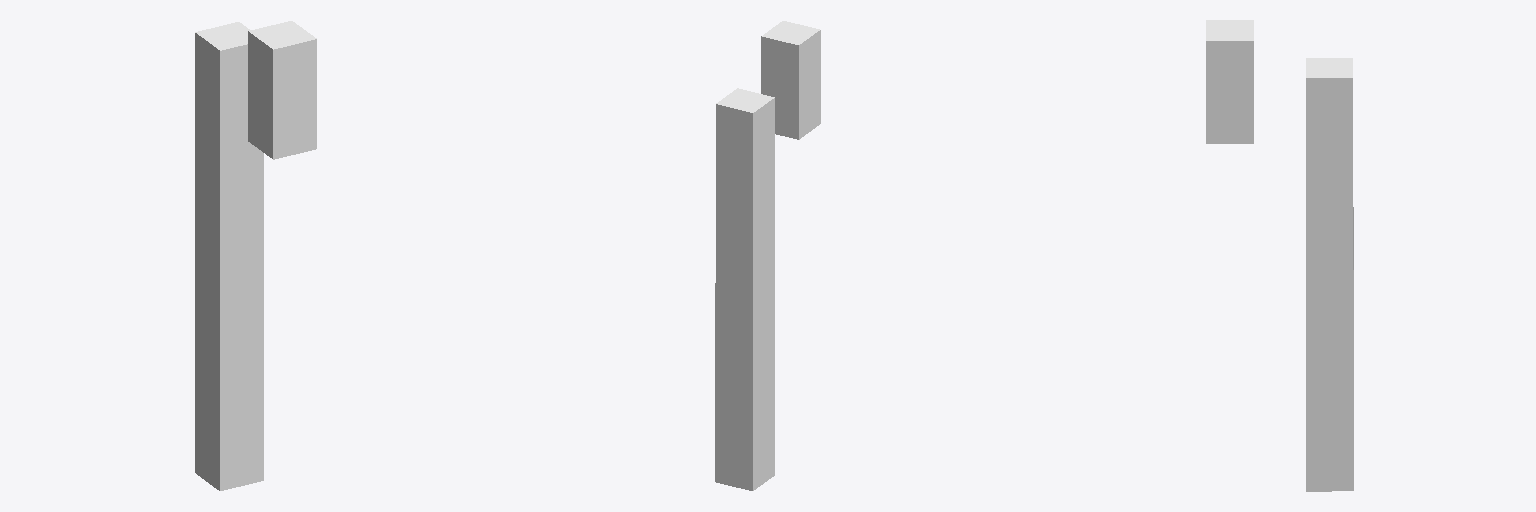
URDF robot description (manipulator):
<?xml version="1.0" encoding="utf-8"?>
<!-- =================================================================================== -->
<!-- |    This document was autogenerated by xacro from shoulder_pitch.xacro           | -->
<!-- |    EDITING THIS FILE BY HAND IS NOT RECOMMENDED                                 | -->
<!-- =================================================================================== -->
<robot name="manipulator">
  <!--0.5624 height to start-->
  <material name="white">
    <color rgba="1 1 1 1"/>
  </material>
  <!-- MACROS -->
  <!-- LINKS -->
  <!-- the trans parameter present here is to toggle distance of current object with respect to previous adjacent object i.e. its parent-->
  <link name="base_link">
    <inertial>
      <origin rpy="0 0 0" xyz="0 0 0.5624"/>
      <mass value="0.00048"/>
      <inertia ixx="0.000050799110" ixy="0.0" ixz="0.0" iyy="0.00002857215" iyz="0.00000051457" izz="0.000043394"/>
    </inertial>
    <visual>
      <origin rpy="0 0 0" xyz="0 0 0.5624"/>
      <geometry>
        <box size="0.04 0.04 0.096"/>
      </geometry>
      <material name="white"/>
    </visual>
    <collision>
      <origin rpy="0 0 0" xyz="0 0 0.5624"/>
      <geometry>
        <box size="0.04 0.04 0.096"/>
      </geometry>
    </collision>
  </link>
  <link name="shoulder_yaw_motor">
    <inertial>
      <origin rpy="0 0 0 " xyz="0 0 0.0205"/>
      <mass value="0.140"/>
      <inertia ixx="0.000050799110" ixy="0.0" ixz="0.0" iyy="0.00002857215" iyz="0.00000051457" izz="0.000043394"/>
    </inertial>
    <visual>
      <origin rpy="0 0 0 " xyz="0 0 0.0205"/>
      <geometry>
        <mesh filename="package://mobile_manipulator/meshes/dynamixel_x64series.stl" scale="0.001 0.001 0.001"/>
      </geometry>
      <material name="white"/>
    </visual>
    <collision>
      <origin rpy="0 0 0" xyz="0 0 0.0205"/>
      <geometry>
        <mesh filename="package://mobile_manipulator/meshes/dynamixel_x64series.stl" scale="0.001 0.001 0.001"/>
      </geometry>
    </collision>
  </link>
  <link name="biscep">
    <inertial>
      <origin rpy="0 0 0" xyz="0 0.023 0.1791"/>
      <mass value="0.53"/>
      <inertia ixx="0.000050799110" ixy="0.0" ixz="0.0" iyy="0.00002857215" iyz="0.00000051457" izz="0.000043394"/>
    </inertial>
    <visual>
      <origin rpy="0 0 0" xyz="0 0.023 0.1791"/>
      <geometry>
        <box size="0.04 0.04 0.3842"/>
      </geometry>
      <material name="white"/>
    </visual>
    <collision>
      <origin rpy="0 0 0" xyz="0 0.023 0.1791"/>
      <geometry>
        <box size="0.04 0.04 0.3842"/>
      </geometry>
    </collision>
  </link>
  <joint name="base_joint" type="fixed">
    <origin rpy="1.57 0 3.14" xyz="0 0.02 0.5624"/>
    <parent link="base_link"/>
    <child link="shoulder_yaw_motor"/>
  </joint>
  <joint name="shoulder_yaw" type="revolute">
    <origin rpy="1.57 0 0" xyz="0 0 0.041"/>
    <parent link="shoulder_yaw_motor"/>
    <child link="biscep"/>
    <axis xyz="0 1 0"/>
    <limit effort="300" lower="-3.14" upper="3.14" velocity="1.0"/>
  </joint>
</robot>

--- What the picture shows (computed from the rendered views, not written in the file) ---
3 views of the same robot in one strip: view 1: azimuth 30°, elevation 25°; view 2: azimuth 150°, elevation 25°; view 3: azimuth 270°, elevation 25° (orthographic).
Robot: manipulator — 3 links, 2 joints (1 revolute, 1 fixed); root link base_link; default pose: every joint at zero.
Links seen in each view (by area): view 1: biscep, base_link; view 2: biscep, base_link; view 3: biscep, base_link.
Link boxes in pixels (<box>): biscep: <box>195,22,263,490</box>; base_link: <box>248,21,316,159</box>; biscep: <box>715,88,774,490</box>; base_link: <box>761,21,820,139</box>; biscep: <box>1306,58,1353,491</box>; base_link: <box>1206,20,1253,143</box>.
Size in the robot's own frame: 0.0401 by 0.1246 by 0.4192 metres.
0 mesh visuals loaded from 1 distinct referenced files (none loaded); not drawn: 1 (reference not matched to a file when rendering).